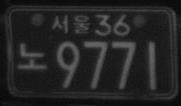1: (140, 40, 165, 91)
3: (94, 13, 112, 37)
6: (112, 14, 131, 37)
7: (110, 39, 137, 90), (82, 39, 109, 89)
9: (55, 39, 80, 89)
노: (16, 42, 48, 70)
서울_O: (50, 13, 92, 35)
